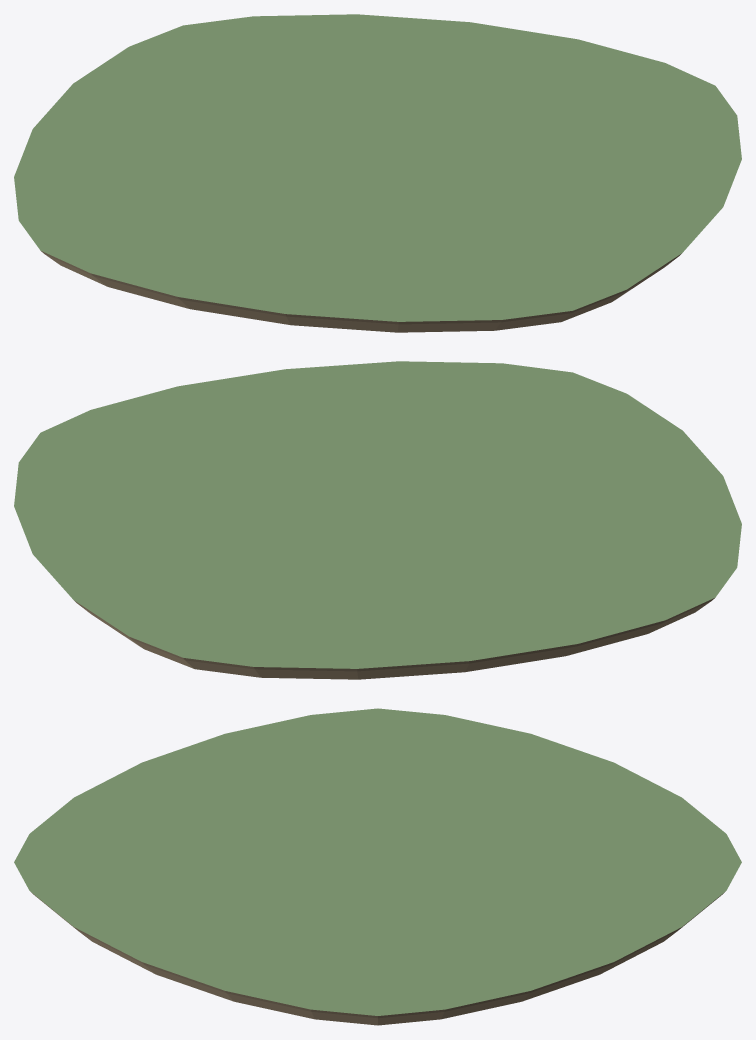
File: Island_Pad_05.glb
3 views of the same model, one above another, from view 1: azimuth 30°, elevation 25°; view 2: azimuth 150°, elevation 25°; view 3: azimuth 270°, elevation 25° (orthographic). The views are drawn at different scales.
Parts seen in each view (by area): view 1: Island_Pad_05; view 2: Island_Pad_05; view 3: Island_Pad_05.
Boxes of the visible parts, x1,y1,x2,y2 form: Island_Pad_05: (14, 14, 741, 332); Island_Pad_05: (14, 361, 741, 679); Island_Pad_05: (14, 708, 741, 1025).
Bounding box in the file's own units: 92 × 2.6 × 92.
